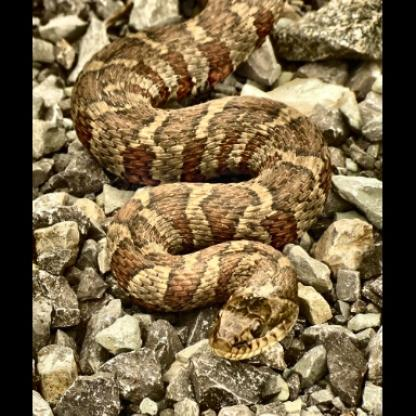Snake: (71, 0, 356, 372)
